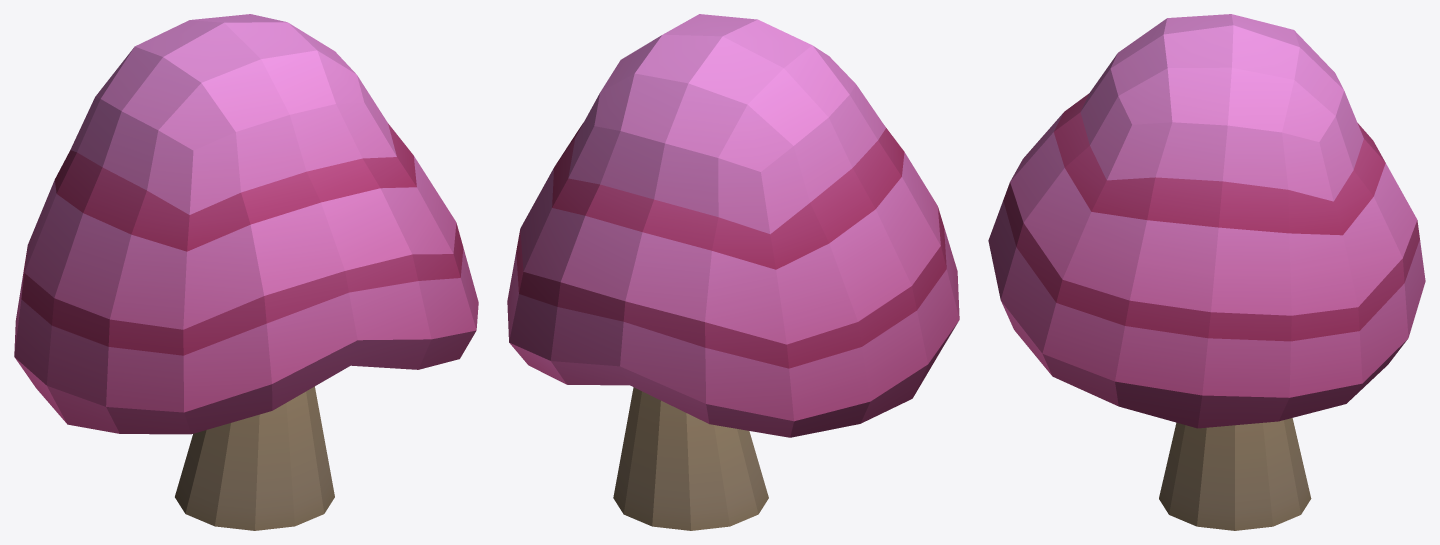
Rendered from Mushroom3.fbx.
The picture shows the model from 3 angles, left to right: view 1: azimuth 30°, elevation 25°; view 2: azimuth 150°, elevation 25°; view 3: azimuth 270°, elevation 25°; orthographic projection. The views are drawn at different scales.
Visible parts, largest first — view 1: Mushroom3; view 2: Mushroom3; view 3: Mushroom3.
Part boxes in pixels (x1,y1,x2,y2): Mushroom3: (14,14,478,530); Mushroom3: (507,14,959,530); Mushroom3: (988,14,1425,530).
Bounding box in the file's own units: 24.54 × 28.27 × 24.42.
